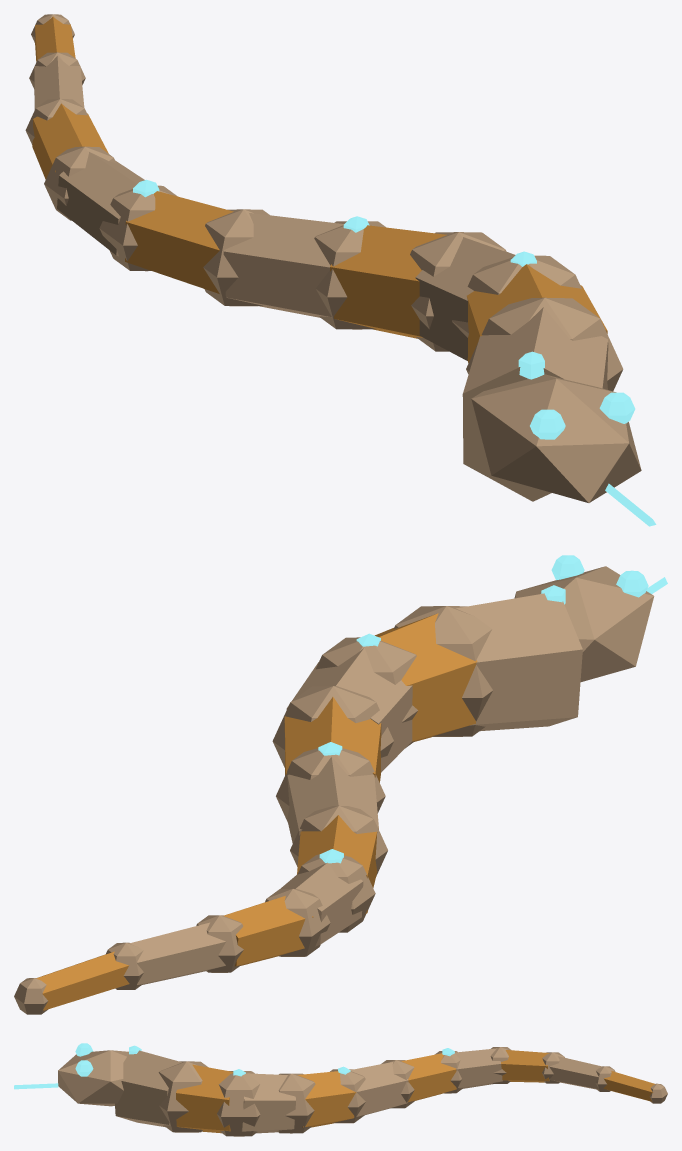
The model's file is exo-wild-serpent.glb.
3 renders of one model, top to bottom at view 1: azimuth 30°, elevation 25°; view 2: azimuth 150°, elevation 25°; view 3: azimuth 270°, elevation 25°, orthographic. The views are drawn at different scales.
Parts seen in each view (by area): view 1: body; view 2: body; view 3: body.
Part boxes in pixels (<box>): body: <box>25,14,656,526</box>; body: <box>14,555,667,1014</box>; body: <box>14,1043,667,1136</box>.
Bounding box in the file's own units: 0.7566 × 0.4199 × 3.26.
